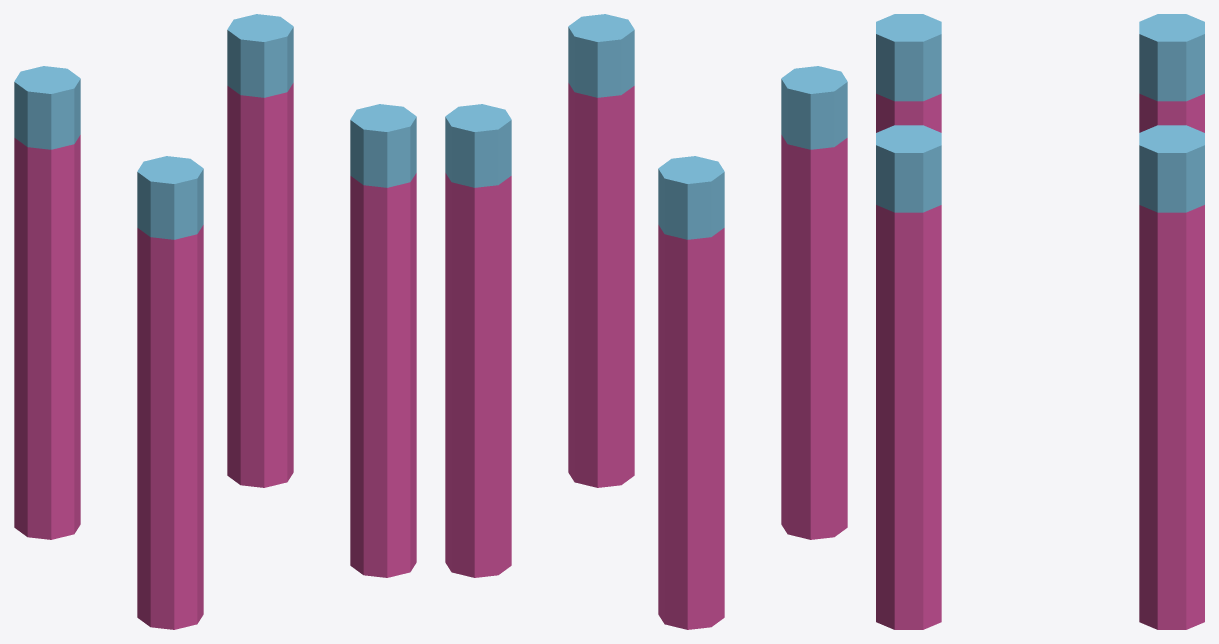
File: Playground Support 4.fbx
3 renders of one model, left to right at view 1: azimuth 30°, elevation 25°; view 2: azimuth 150°, elevation 25°; view 3: azimuth 270°, elevation 25°, orthographic. The views are drawn at different scales.
Parts seen in each view (by area): view 1: Playground Support 4; view 2: Playground Support 4; view 3: Playground Support 4.
Boxes of the visible parts, x1,y1,x2,y2 form: Playground Support 4: (14, 14, 416, 629); Playground Support 4: (445, 14, 847, 629); Playground Support 4: (876, 14, 1204, 629).
Bounding box in the file's own units: 100 × 160 × 100.
